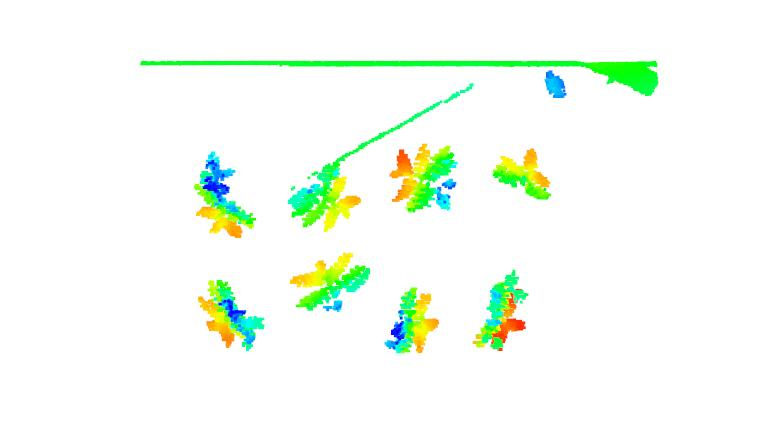chickpea: (190, 151, 257, 240), (287, 160, 361, 234), (195, 277, 266, 354), (284, 250, 373, 310), (389, 143, 460, 214), (469, 269, 528, 352), (379, 285, 438, 357), (489, 145, 556, 202)
